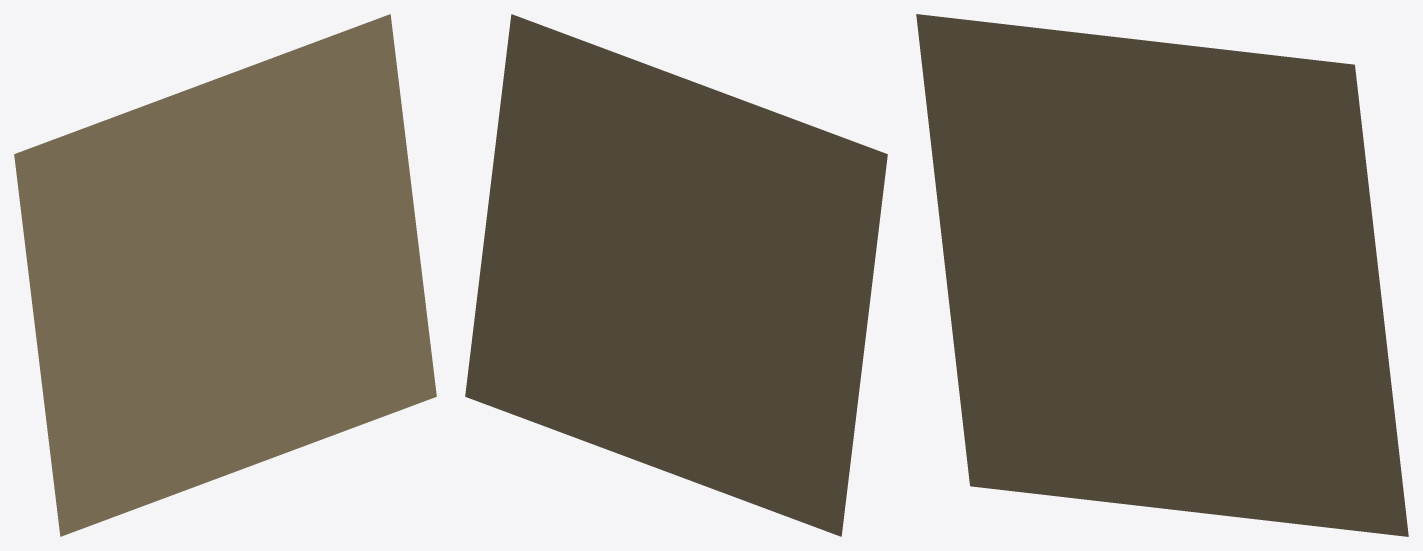
File: v4_wall_c3.obj
The picture shows the model from 3 angles, left to right: view 1: azimuth 30°, elevation 25°; view 2: azimuth 150°, elevation 25°; view 3: azimuth 330°, elevation 25°; orthographic projection. The views are drawn at different scales.
Size of the model in its own units: 1.11 by 1.11 by 0.
